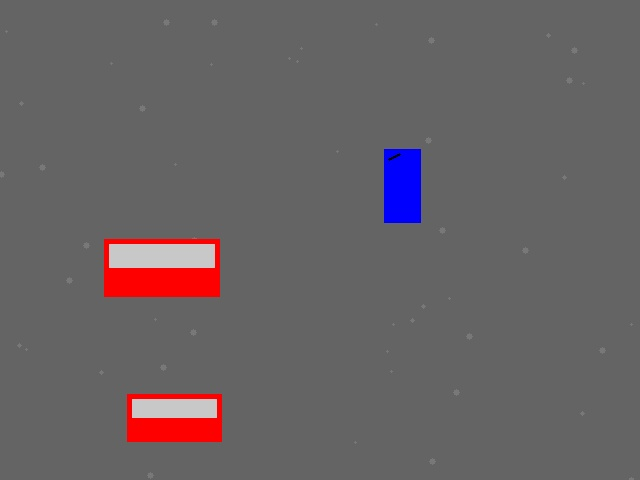car: (104, 239, 219, 296), (127, 394, 221, 441)
motorcycle: (384, 149, 420, 222)
